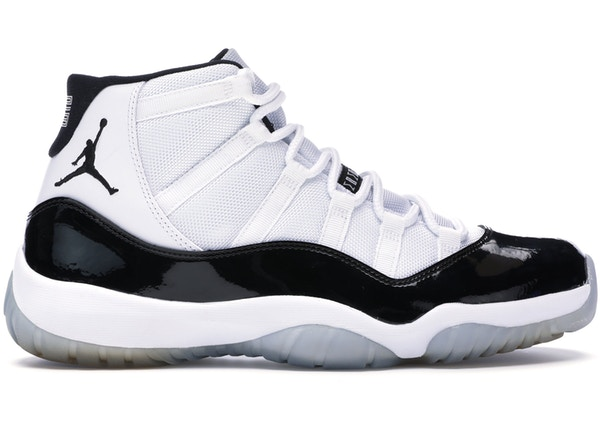shoe: (1, 37, 600, 375)
